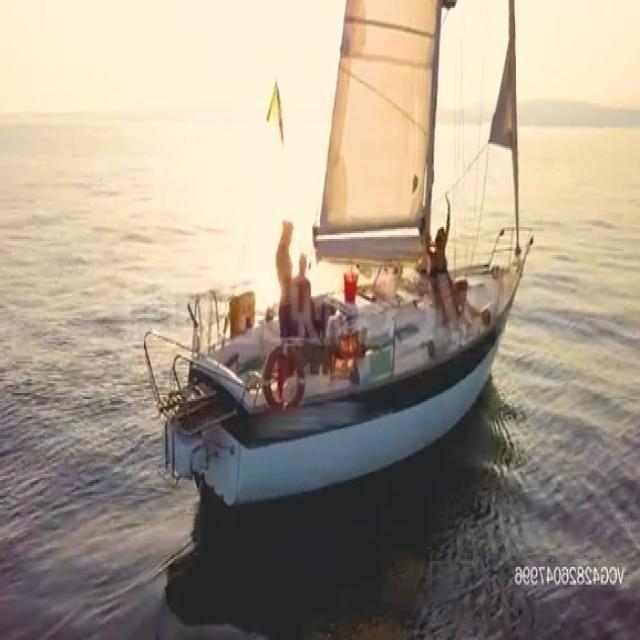sailboat: (144, 0, 546, 508)
